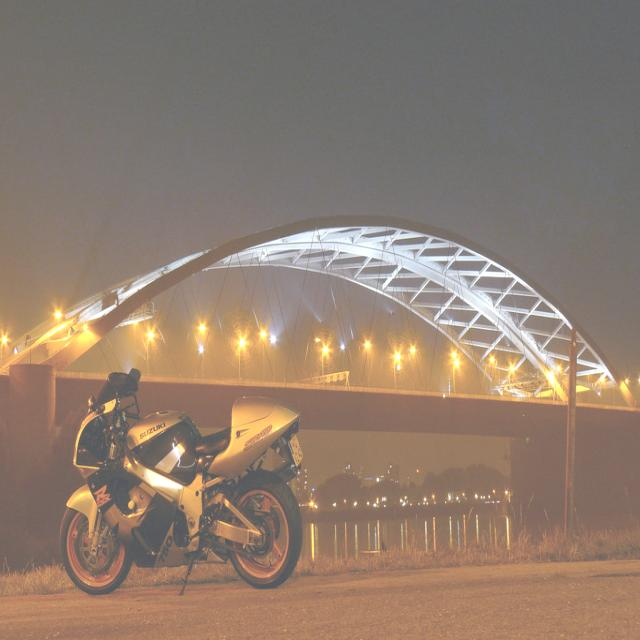Motorbike: (61, 370, 304, 594)
